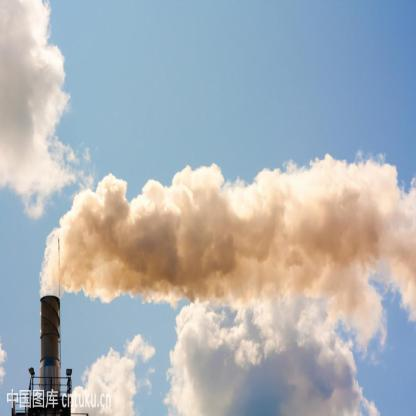smoke: (277, 178, 352, 298), (148, 187, 224, 295), (41, 231, 148, 296), (352, 178, 416, 272), (224, 188, 278, 291), (73, 191, 149, 230)
